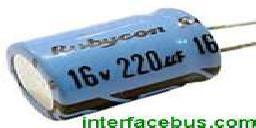Electrolytic Capacitor: (7, 5, 256, 116)
